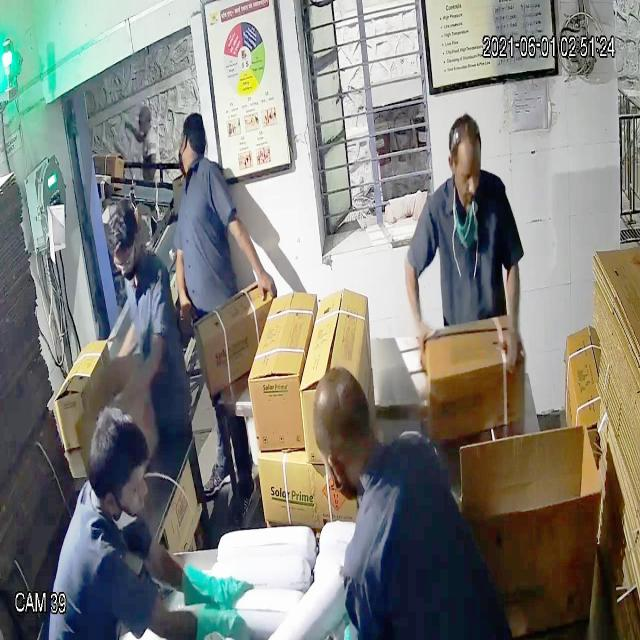glasses: (108, 242, 144, 280)
no-glass: (446, 157, 486, 191)
